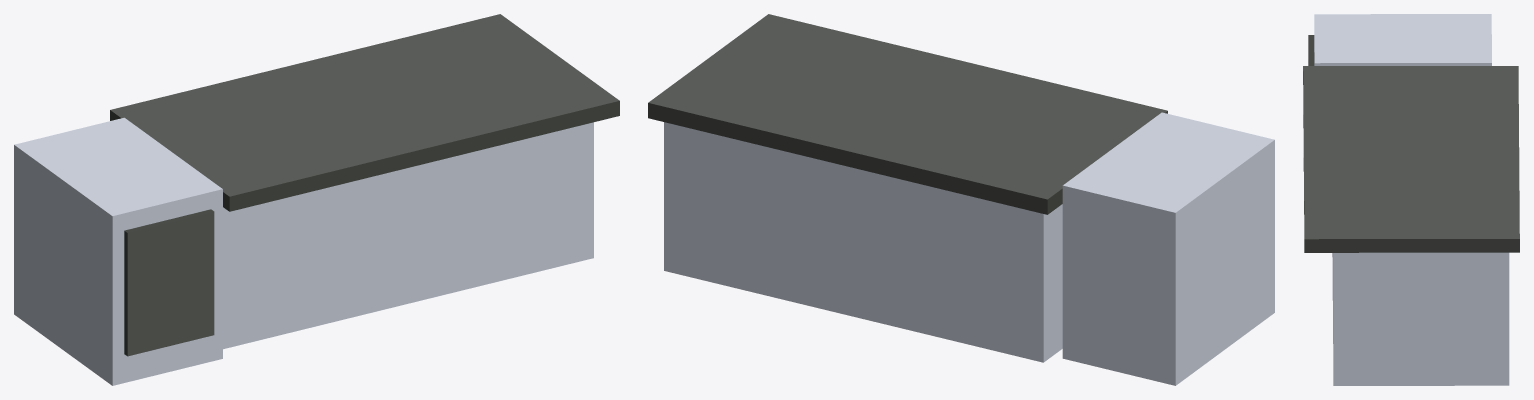
Rendered from Fridge_Counter.glb.
3 renders of one model, left to right at view 1: azimuth 30°, elevation 25°; view 2: azimuth 150°, elevation 25°; view 3: azimuth 270°, elevation 25°, orthographic. The views are drawn at different scales.
Visible parts, largest first — view 1: Fridge_Counter; view 2: Fridge_Counter; view 3: Fridge_Counter.
Boxes of the visible parts, box(x1,y1,x2,y2) form: Fridge_Counter: box(14, 14, 619, 385); Fridge_Counter: box(648, 14, 1274, 385); Fridge_Counter: box(1303, 14, 1519, 385).
Size of what is drawn, in the model's own units: 3.13 by 1.01 by 1.29.
1 material, 1 textured.
